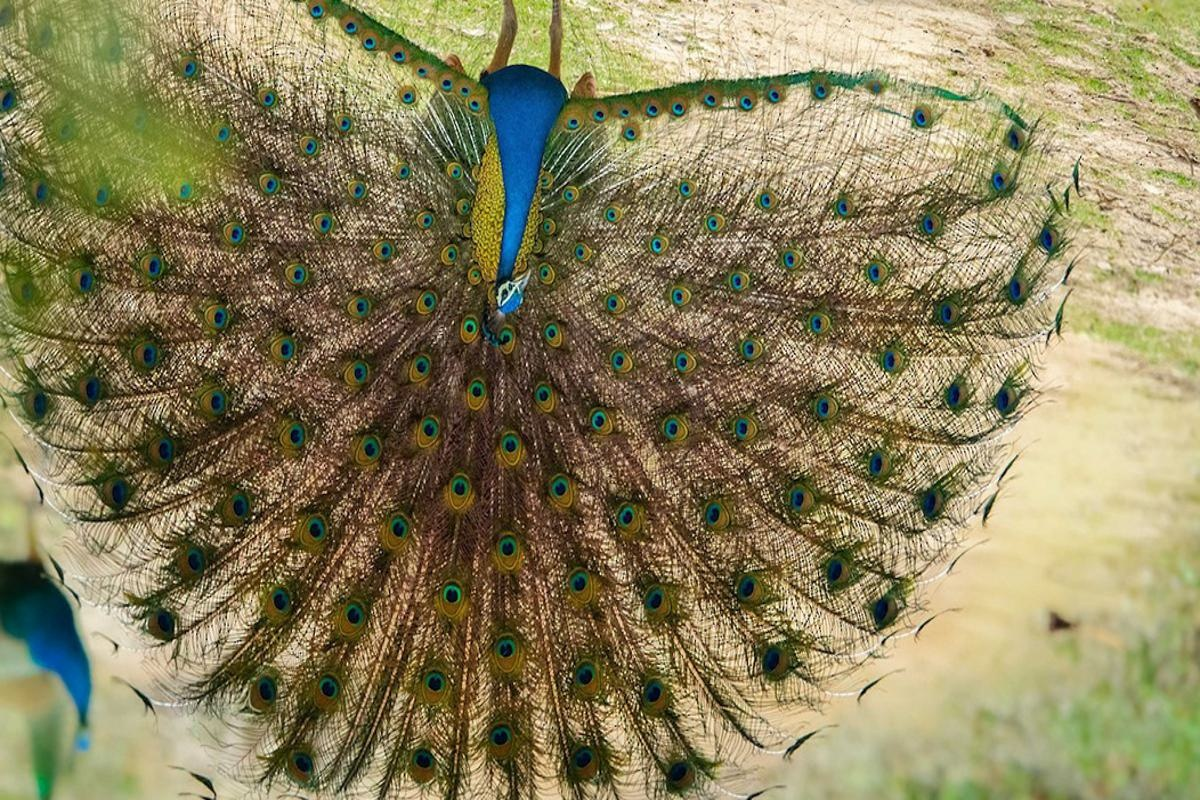peacock: (177, 35, 975, 727)
